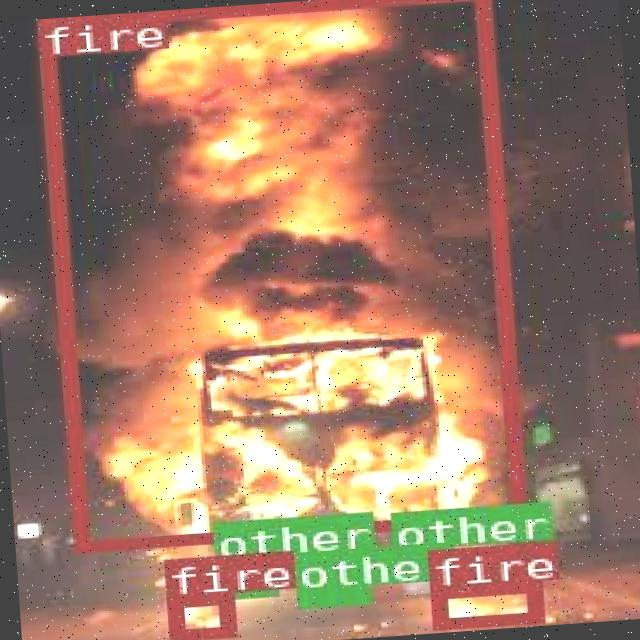fire: (36, 0, 524, 550), (429, 580, 540, 627), (166, 592, 233, 637)
